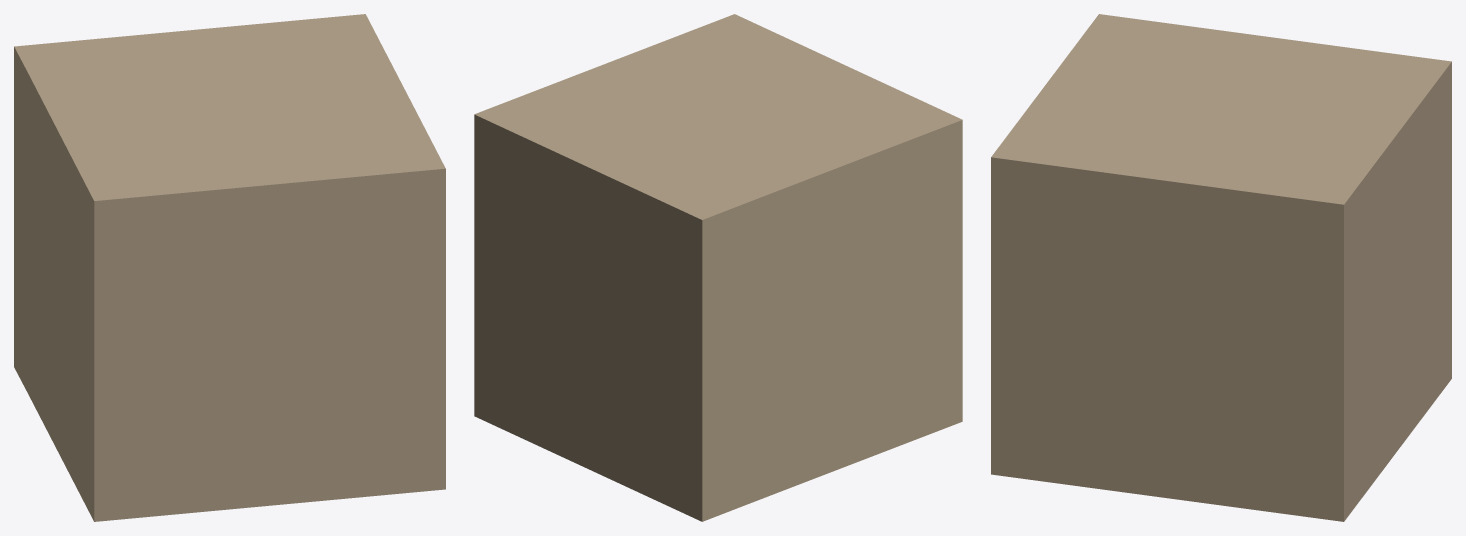
Rendered from bld_99520039.dae.
3 renders of one model, left to right at view 1: azimuth 30°, elevation 25°; view 2: azimuth 150°, elevation 25°; view 3: azimuth 270°, elevation 25°, orthographic. The views are drawn at different scales.
Parts seen in each view (by area): view 1: bld_99520039; view 2: bld_99520039; view 3: bld_99520039.
Boxes of the visible parts, <box> form: bld_99520039: <box>14,14,445,521</box>; bld_99520039: <box>474,14,962,521</box>; bld_99520039: <box>991,14,1451,521</box>.
Size of the model in its own units: 10.32 by 10.54 by 8.
